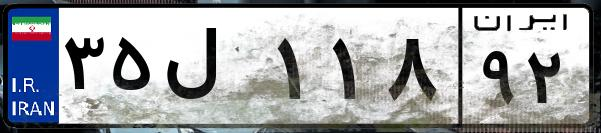1: (270, 28, 330, 110), (330, 28, 385, 110)
2: (525, 38, 570, 115)
3: (57, 26, 110, 100)
5: (110, 28, 158, 98)
8: (385, 28, 445, 110)
9: (475, 38, 525, 113)
ل: (158, 20, 270, 120)
